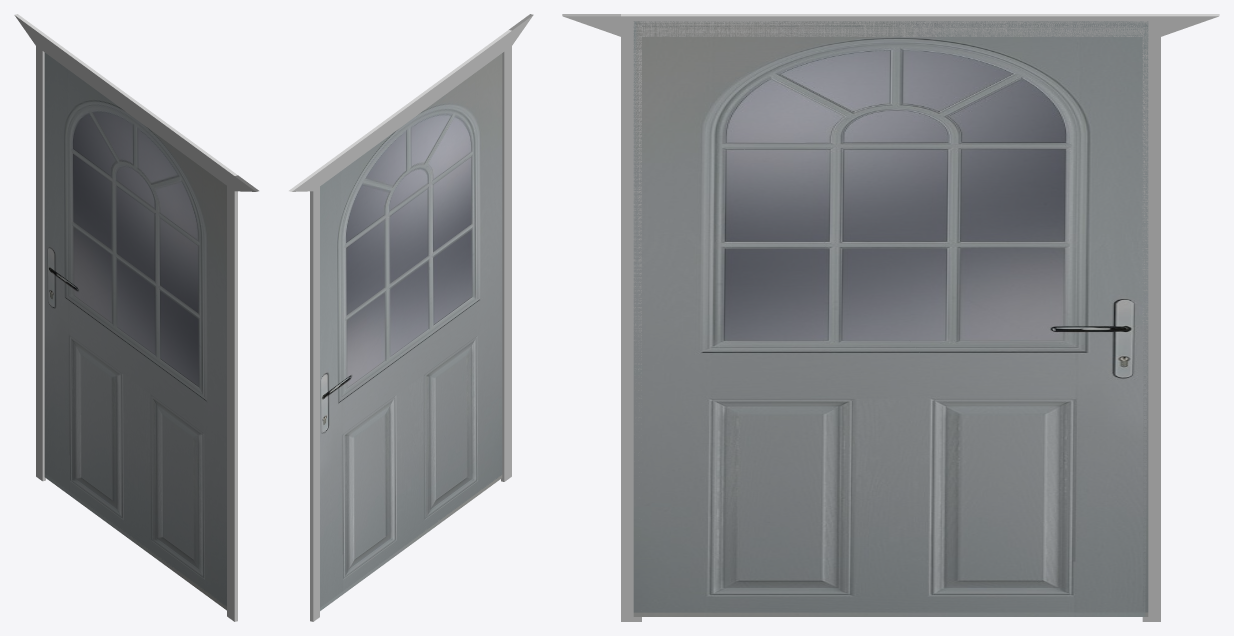
File: LiteDoor11n.b3cfac11.gltf
3 views of the same model, side by side, from view 1: azimuth 30°, elevation 25°; view 2: azimuth 150°, elevation 25°; view 3: azimuth 270°, elevation 25° (orthographic). The views are drawn at different scales.
Visible parts, largest first — view 1: Plane.001, Plane.002; view 2: Plane.001, Plane.002; view 3: Plane.001, Plane.002.
Boxes of the visible parts, left/top/right/bottom form: Plane.001: left=44, top=52, right=226, bottom=610; Plane.002: left=14, top=14, right=258, bottom=621; Plane.001: left=320, top=53, right=502, bottom=610; Plane.002: left=289, top=14, right=533, bottom=621; Plane.001: left=633, top=21, right=1148, bottom=616; Plane.002: left=562, top=14, right=1219, bottom=621.
Bounding box in the file's own units: 0.05 × 6.1 × 6.
1 material, 1 textured.
